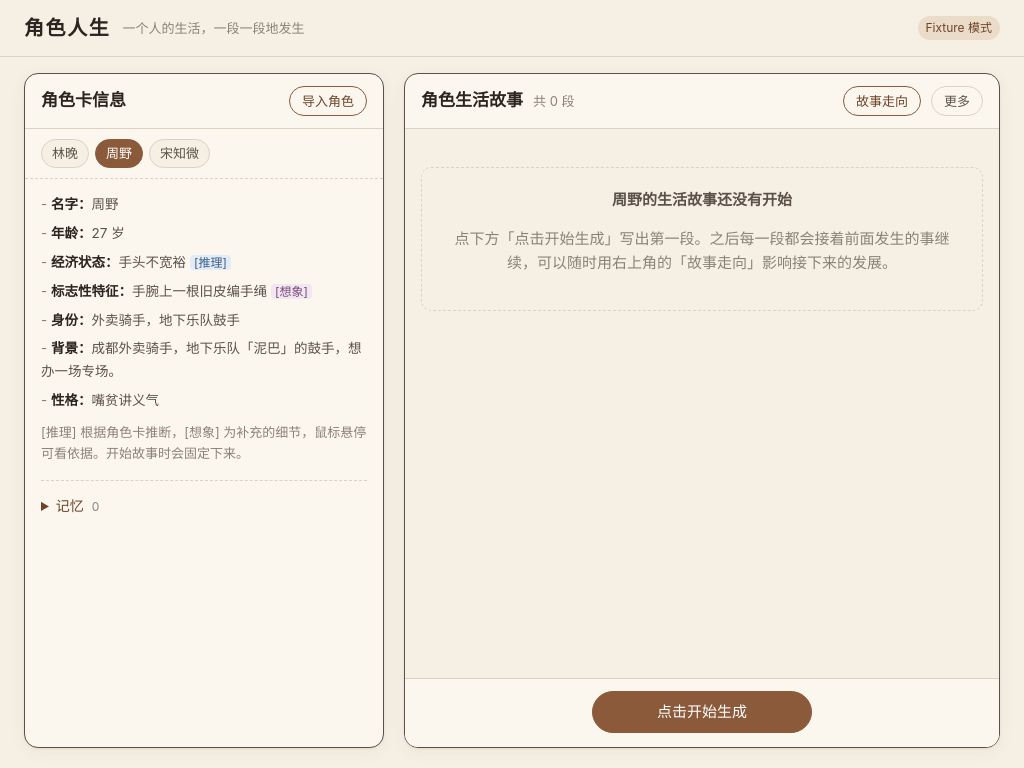
Test case: Import dialog › lists JSON problems with readable field names
Click the button "导入角色": (328, 101) x1=289 y1=86 x2=367 y2=116
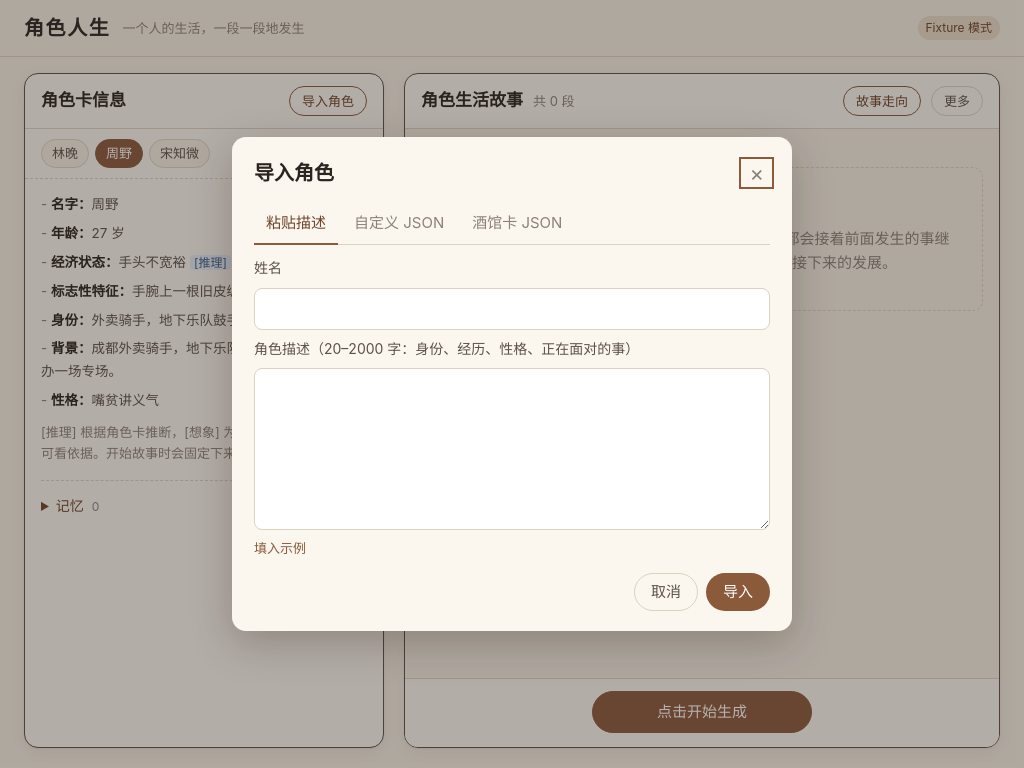
Click the tab "自定义 JSON": (399, 224) x1=342 y1=203 x2=456 y2=245
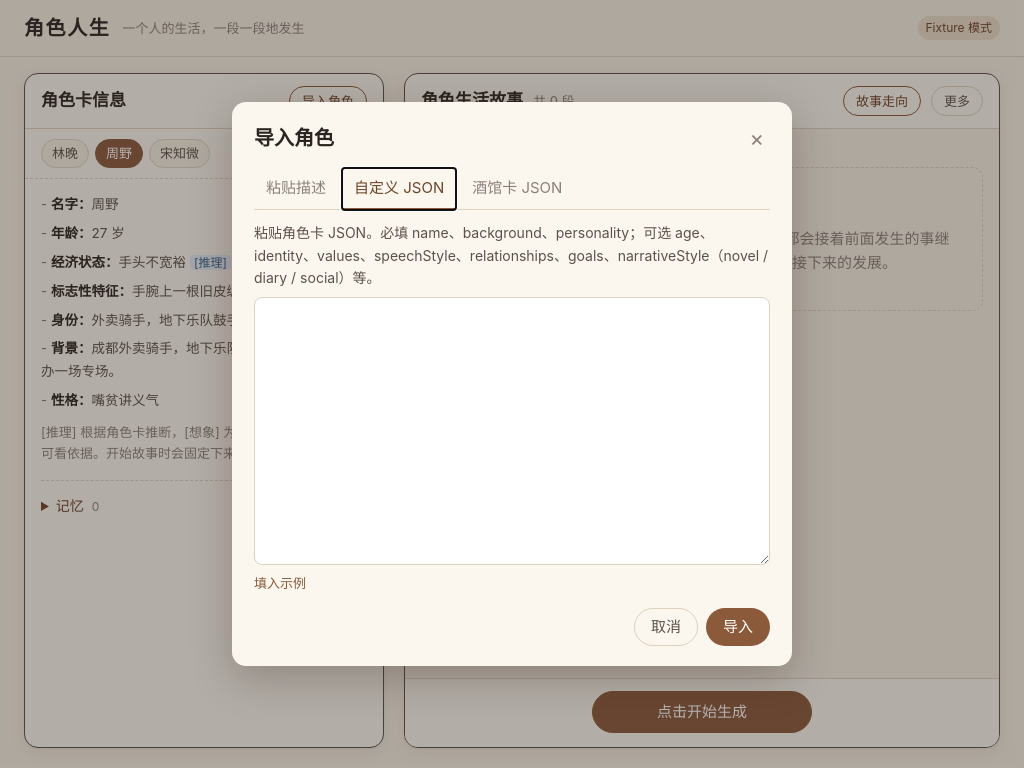
Click the text box labelled "粘贴角色卡 JSON": (512, 431) x1=254 y1=297 x2=770 y2=565
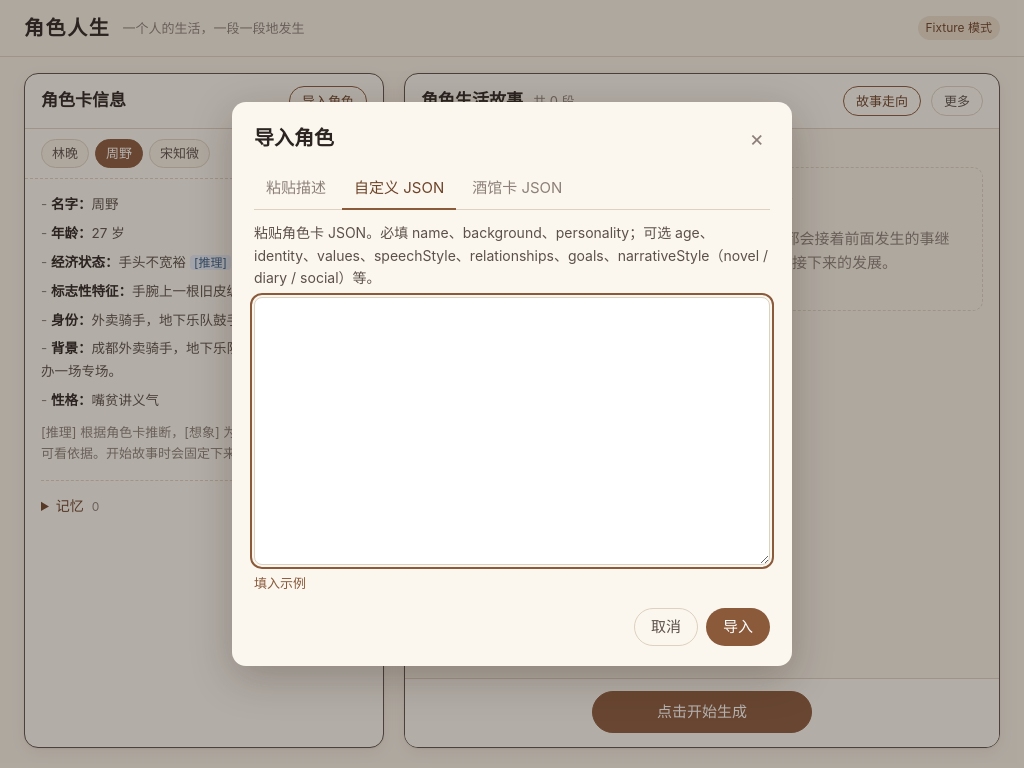
Type keys "{\"name\":\"\",\"relationships\":[{\"name\":\"\",\"relation\":\"父亲\"}]}"
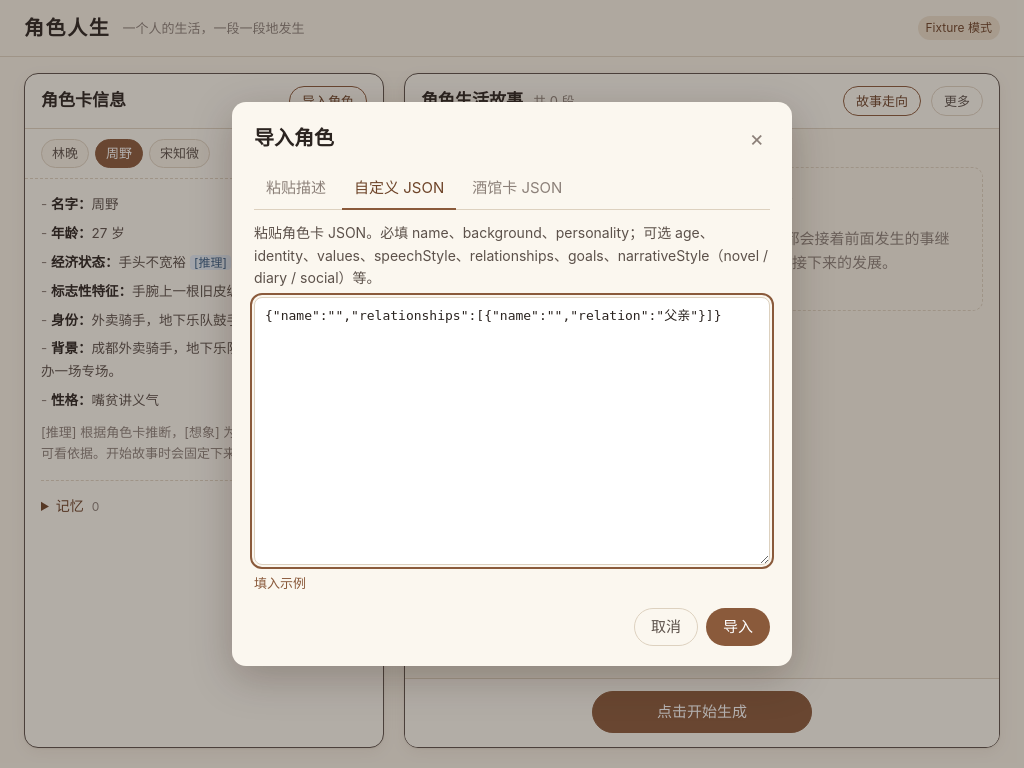
Click the button "导入": (738, 627) x1=706 y1=608 x2=770 y2=646
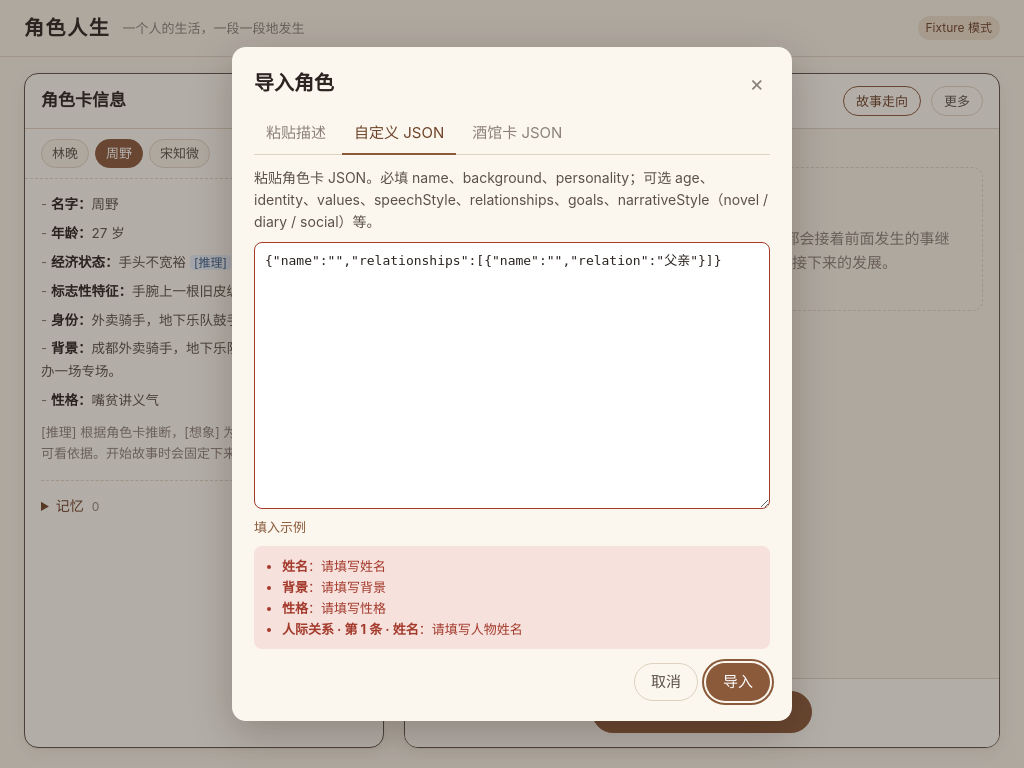
Now the message named "校验问题" shows "姓名：请填写姓名", box x1=254 y1=546 x2=770 y2=649
Now the message named "校验问题" shows "背景：请填写背景", box x1=254 y1=546 x2=770 y2=649
Now the message named "校验问题" shows "人际关系 · 第 1 条 · 姓名：请填写人物姓名", box x1=254 y1=546 x2=770 y2=649
